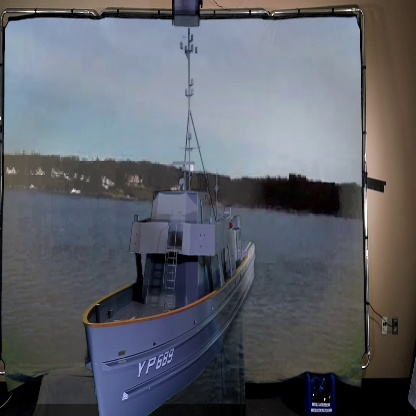YP689: (80, 29, 257, 416)
